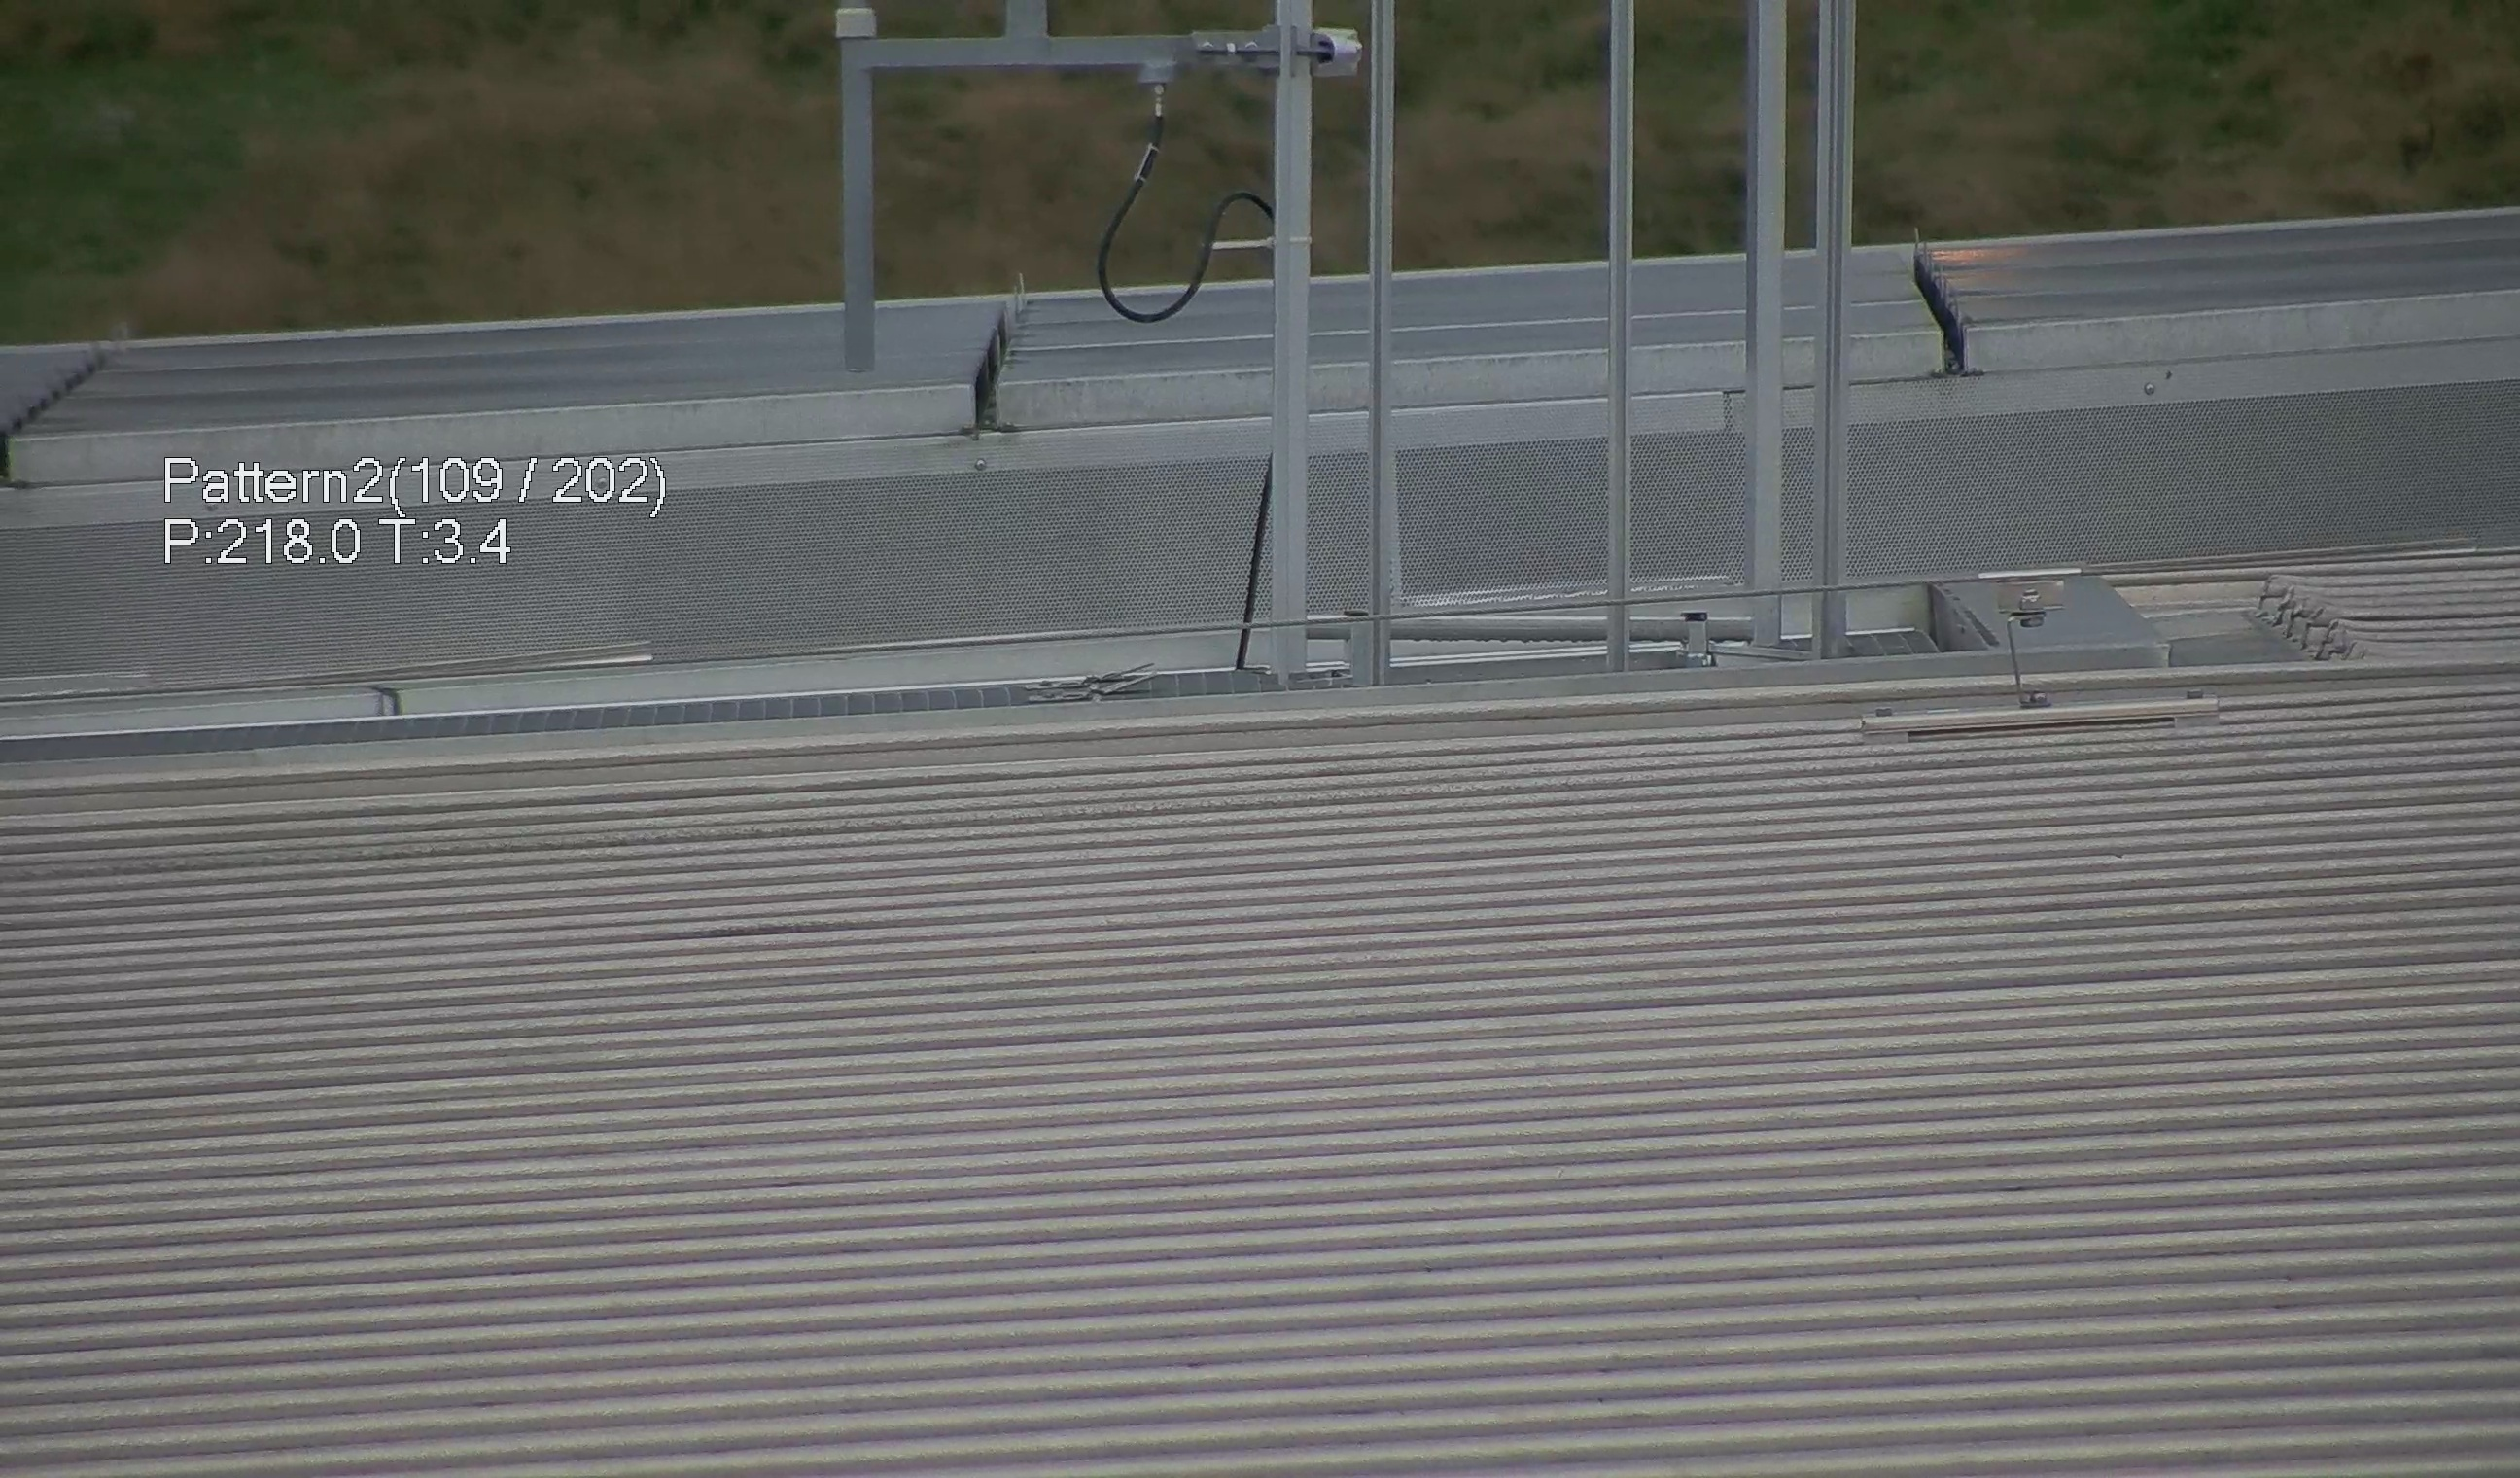Other: (1903, 236, 1998, 375)
